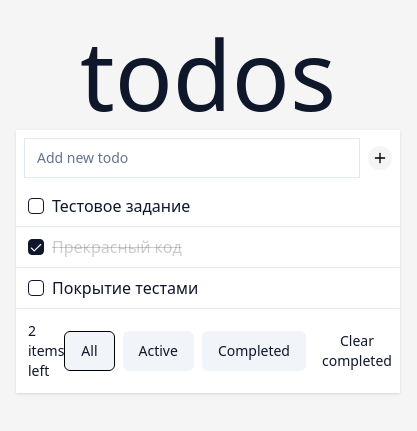
Test: Добавление нового todo › Добавление нового todo
The image size is (417, 431).
In the field with placeholder "Add new todo": (192, 158) x1=24 y1=138 x2=360 y2=178, type "прогнать тесты"
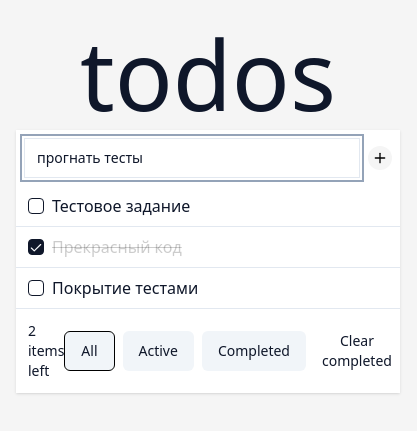
Click the button with test id "addButton": (380, 158) x1=368 y1=146 x2=392 y2=170
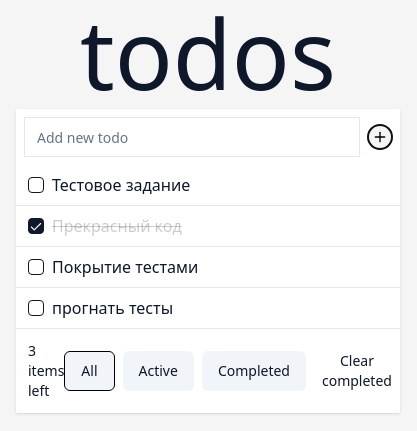
Expected: the text "прогнать тесты" is shown, x1=52 y1=300 x2=173 y2=316
